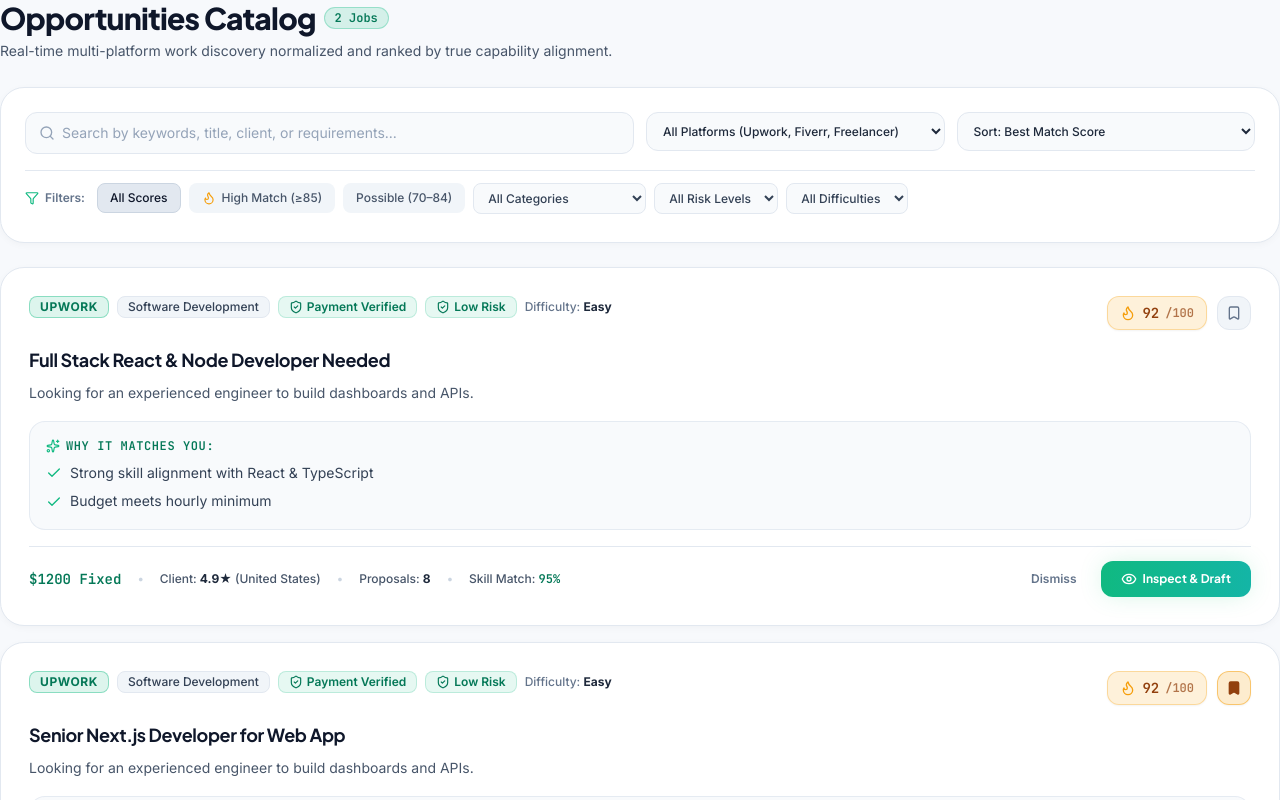
it: Jobs Catalog & Job Details Modal Components › JobsView Component › renders list of jobs with scores, tags, and search input
Expected: the heading "Opportunities Catalog" is shown, 0,0 -> 316,36
Expected: the heading "Full Stack React & Node Developer Needed" is shown, 29,348 -> 390,371
# Search filtering
Type "React & Node" into the field with placeholder "Search by keywords, title, client, or requirements...".
click(330, 133); type("React & Node")  # box 25,112 -> 634,154
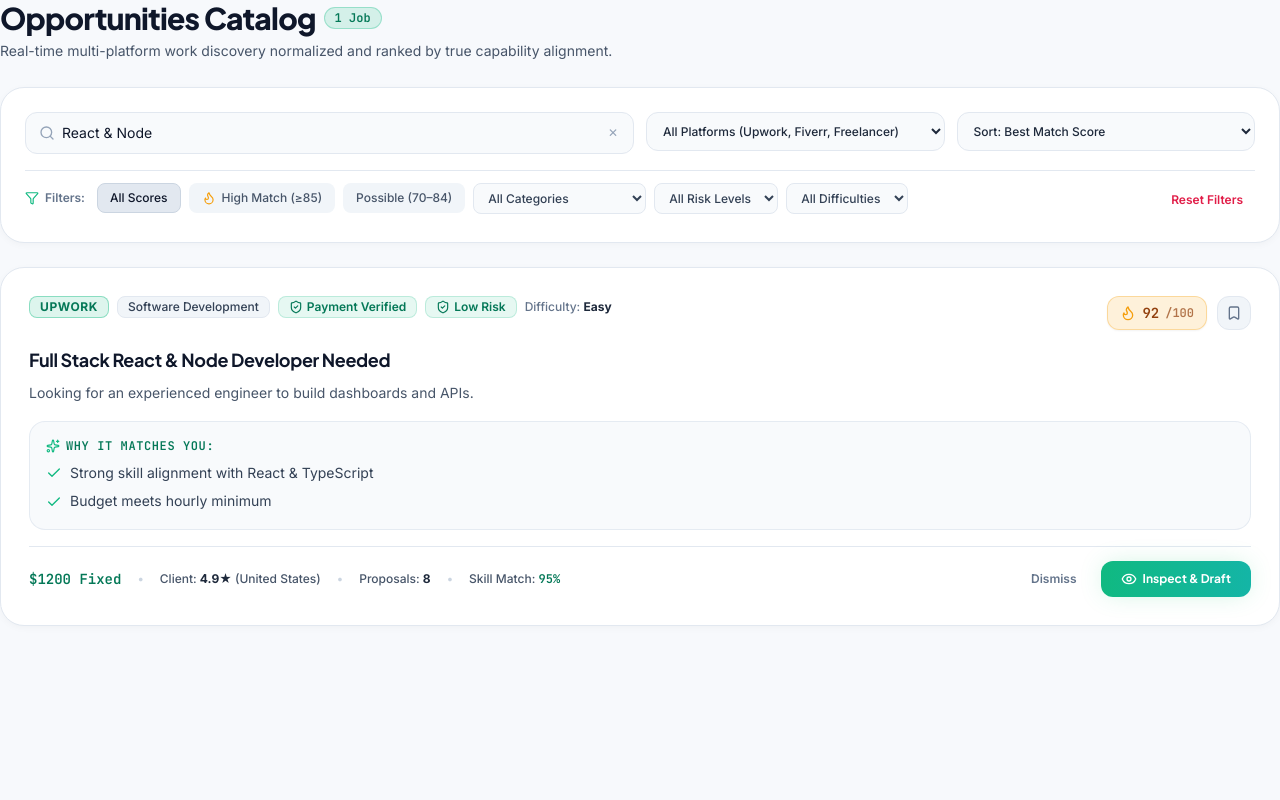
Expected: the heading "Full Stack React & Node Developer Needed" is shown, 29,348 -> 390,371
Expected: the heading "Senior Next.js Developer for Web App" is gone
# Clear search
Click the button titled "Clear search".
click(613, 133)  # box 604,121 -> 622,145
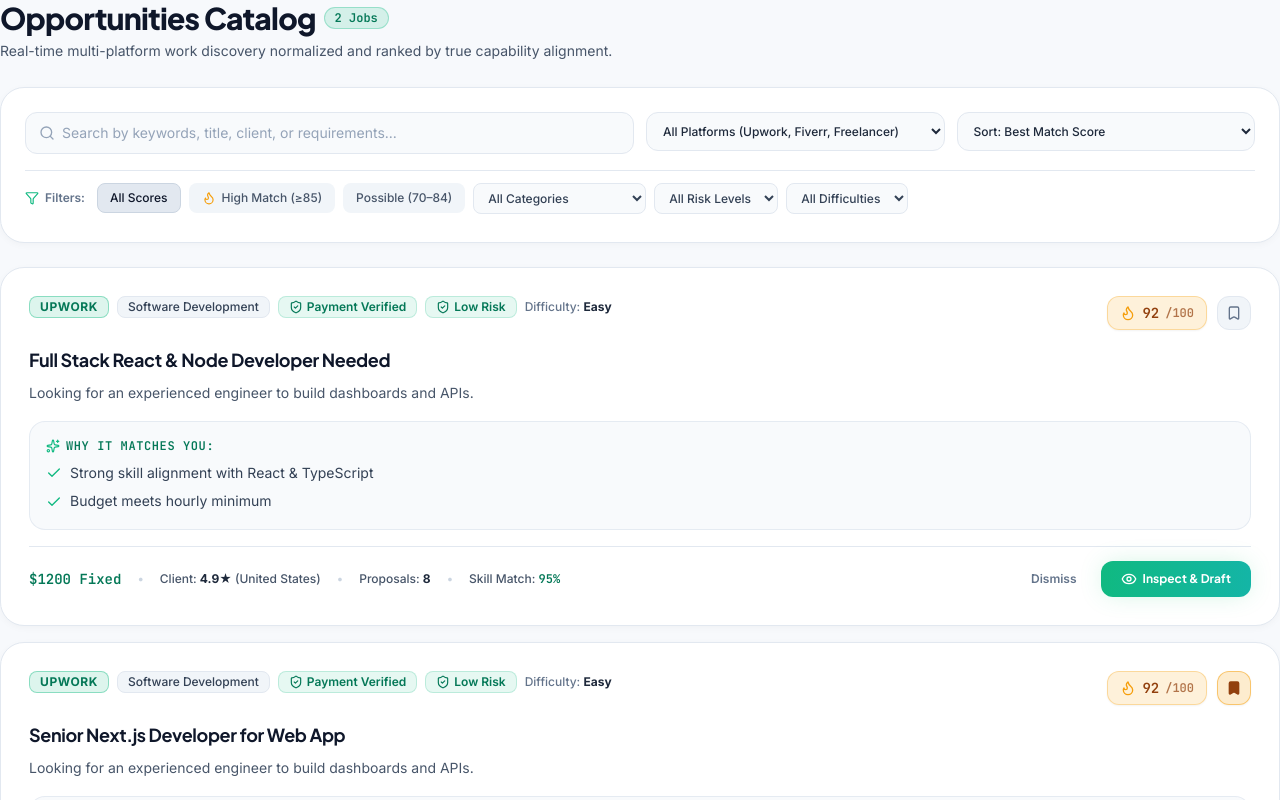
Expected: the heading "Senior Next.js Developer for Web App" is shown, 29,723 -> 345,746
